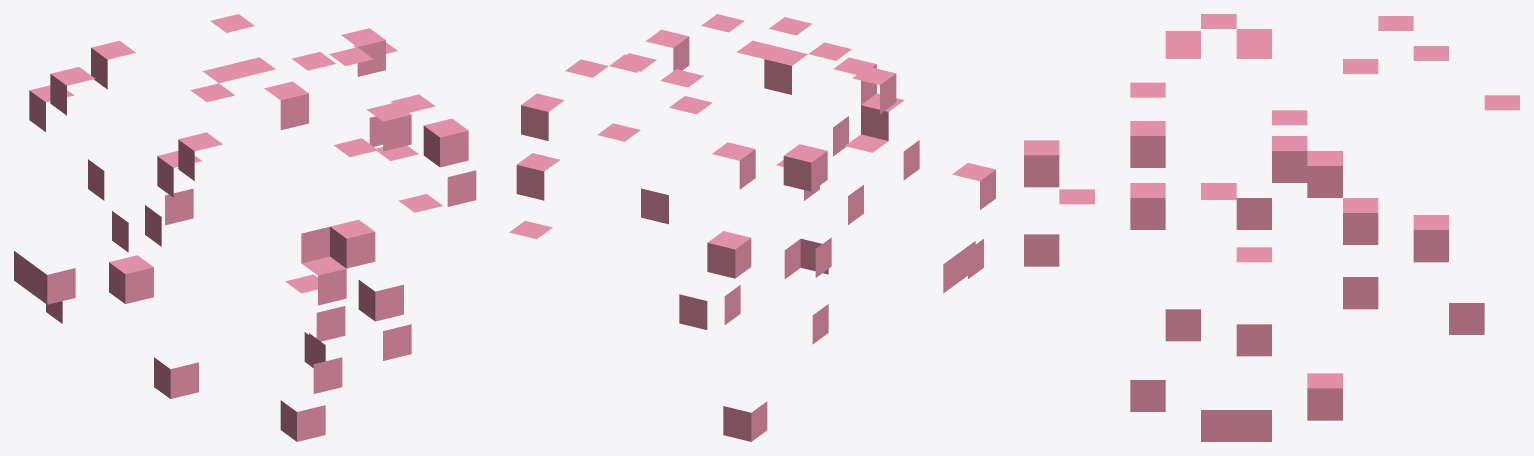
Rendered from tree-cherry-1p25-white-ff9dbb.gltf.
The picture shows the model from 3 angles, left to right: view 1: azimuth 30°, elevation 25°; view 2: azimuth 150°, elevation 25°; view 3: azimuth 270°, elevation 25°; orthographic projection. The views are drawn at different scales.
Parts seen in each view (by area): view 1: tree-cherry-1p25-white-ff9dbb; view 2: tree-cherry-1p25-white-ff9dbb; view 3: tree-cherry-1p25-white-ff9dbb.
Boxes of the visible parts, x1,y1,x2,y2 form: tree-cherry-1p25-white-ff9dbb: (14, 14, 476, 441); tree-cherry-1p25-white-ff9dbb: (509, 14, 995, 441); tree-cherry-1p25-white-ff9dbb: (1024, 14, 1519, 441).
Bounding box in the file's own units: 15 × 11 × 14.
